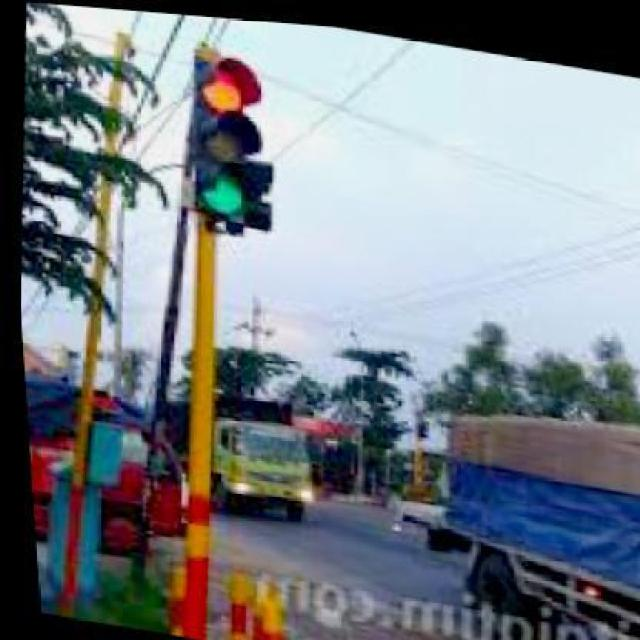Traffic Light -Red-: (175, 32, 274, 222)
